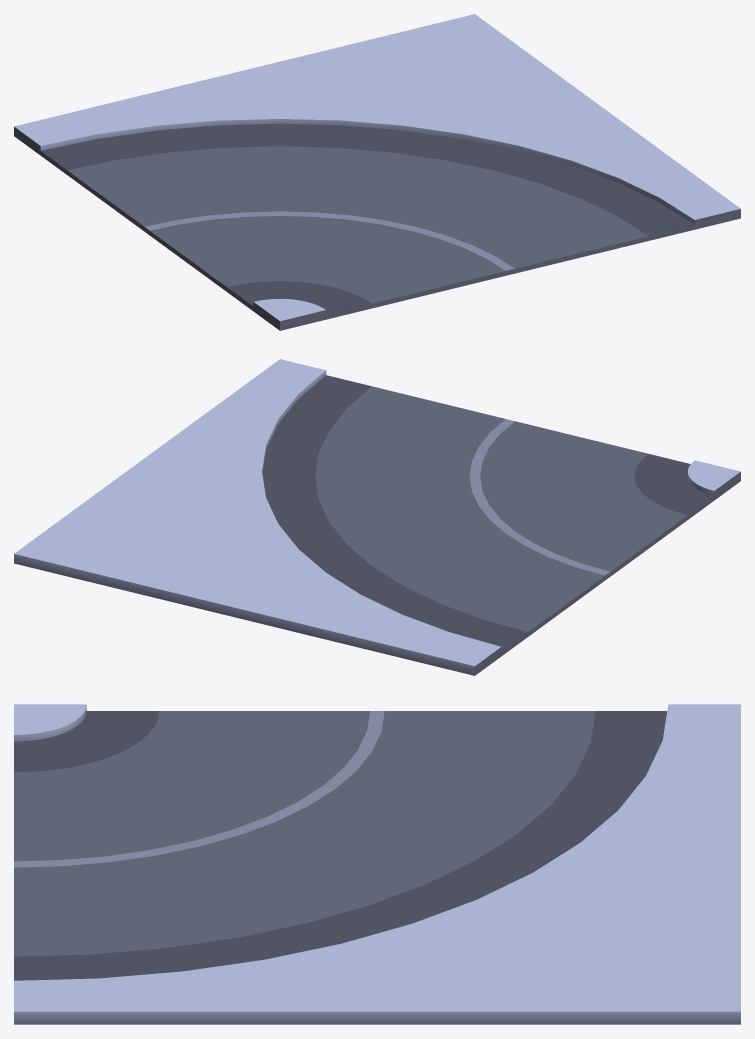
Rendered from road-bend-sidewalk.glb.
The picture shows the model from 3 angles, top to bottom: view 1: azimuth 30°, elevation 25°; view 2: azimuth 150°, elevation 25°; view 3: azimuth 270°, elevation 25°; orthographic projection. The views are drawn at different scales.
Parts seen in each view (by area): view 1: road-bend-sidewalk; view 2: road-bend-sidewalk; view 3: road-bend-sidewalk.
Boxes of the visible parts, <box> form: road-bend-sidewalk: <box>14,14,740,330</box>; road-bend-sidewalk: <box>14,359,740,675</box>; road-bend-sidewalk: <box>14,704,740,1024</box>.
Bounding box in the file's own units: 1 × 0.02 × 1.
1 material, 1 textured.
